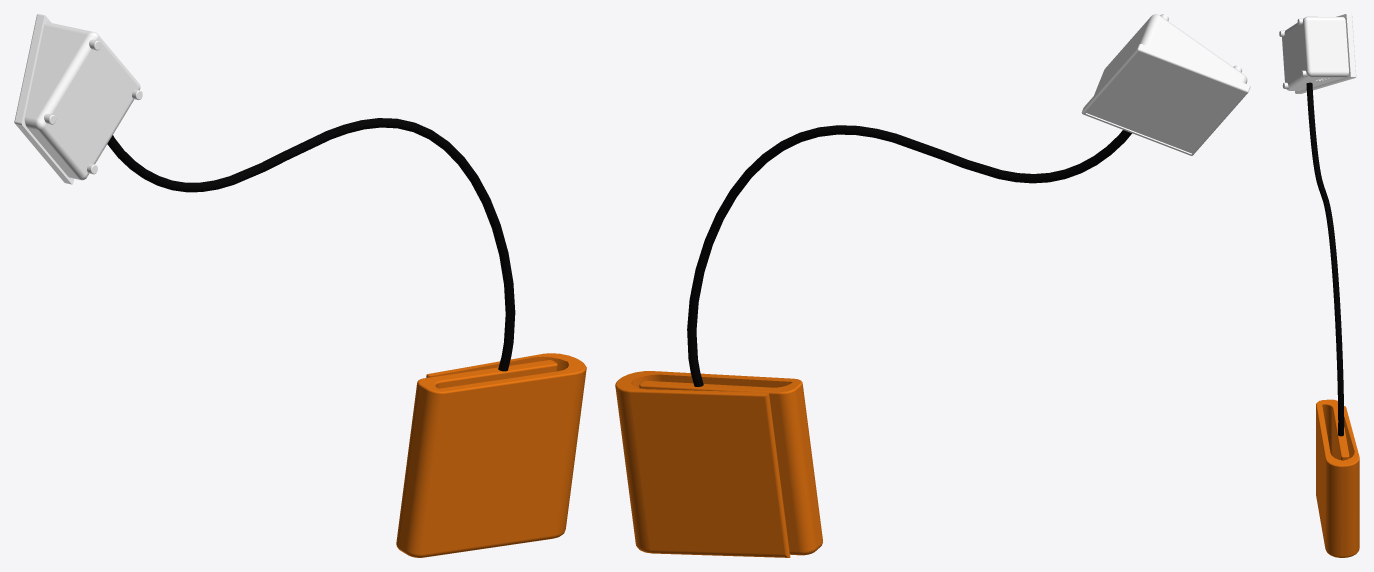
Rendered from estetoscopio manual.fbx.
The picture shows the model from 3 angles, left to right: view 1: azimuth 30°, elevation 25°; view 2: azimuth 150°, elevation 25°; view 3: azimuth 270°, elevation 25°; orthographic projection. The views are drawn at different scales.
Parts seen in each view (by area): view 1: Sweep2, Fillet7; view 2: Sweep2, Fillet7; view 3: Sweep2, Fillet7.
Boxes of the visible parts, <box> form: Sweep2: <box>107,118,586,557</box>; Fillet7: <box>14,14,142,184</box>; Sweep2: <box>615,125,1131,557</box>; Fillet7: <box>1081,14,1250,155</box>; Sweep2: <box>1306,82,1359,557</box>; Fillet7: <box>1279,14,1356,93</box>.
Bounding box in the file's own units: 13.68 × 13.79 × 2.56.
